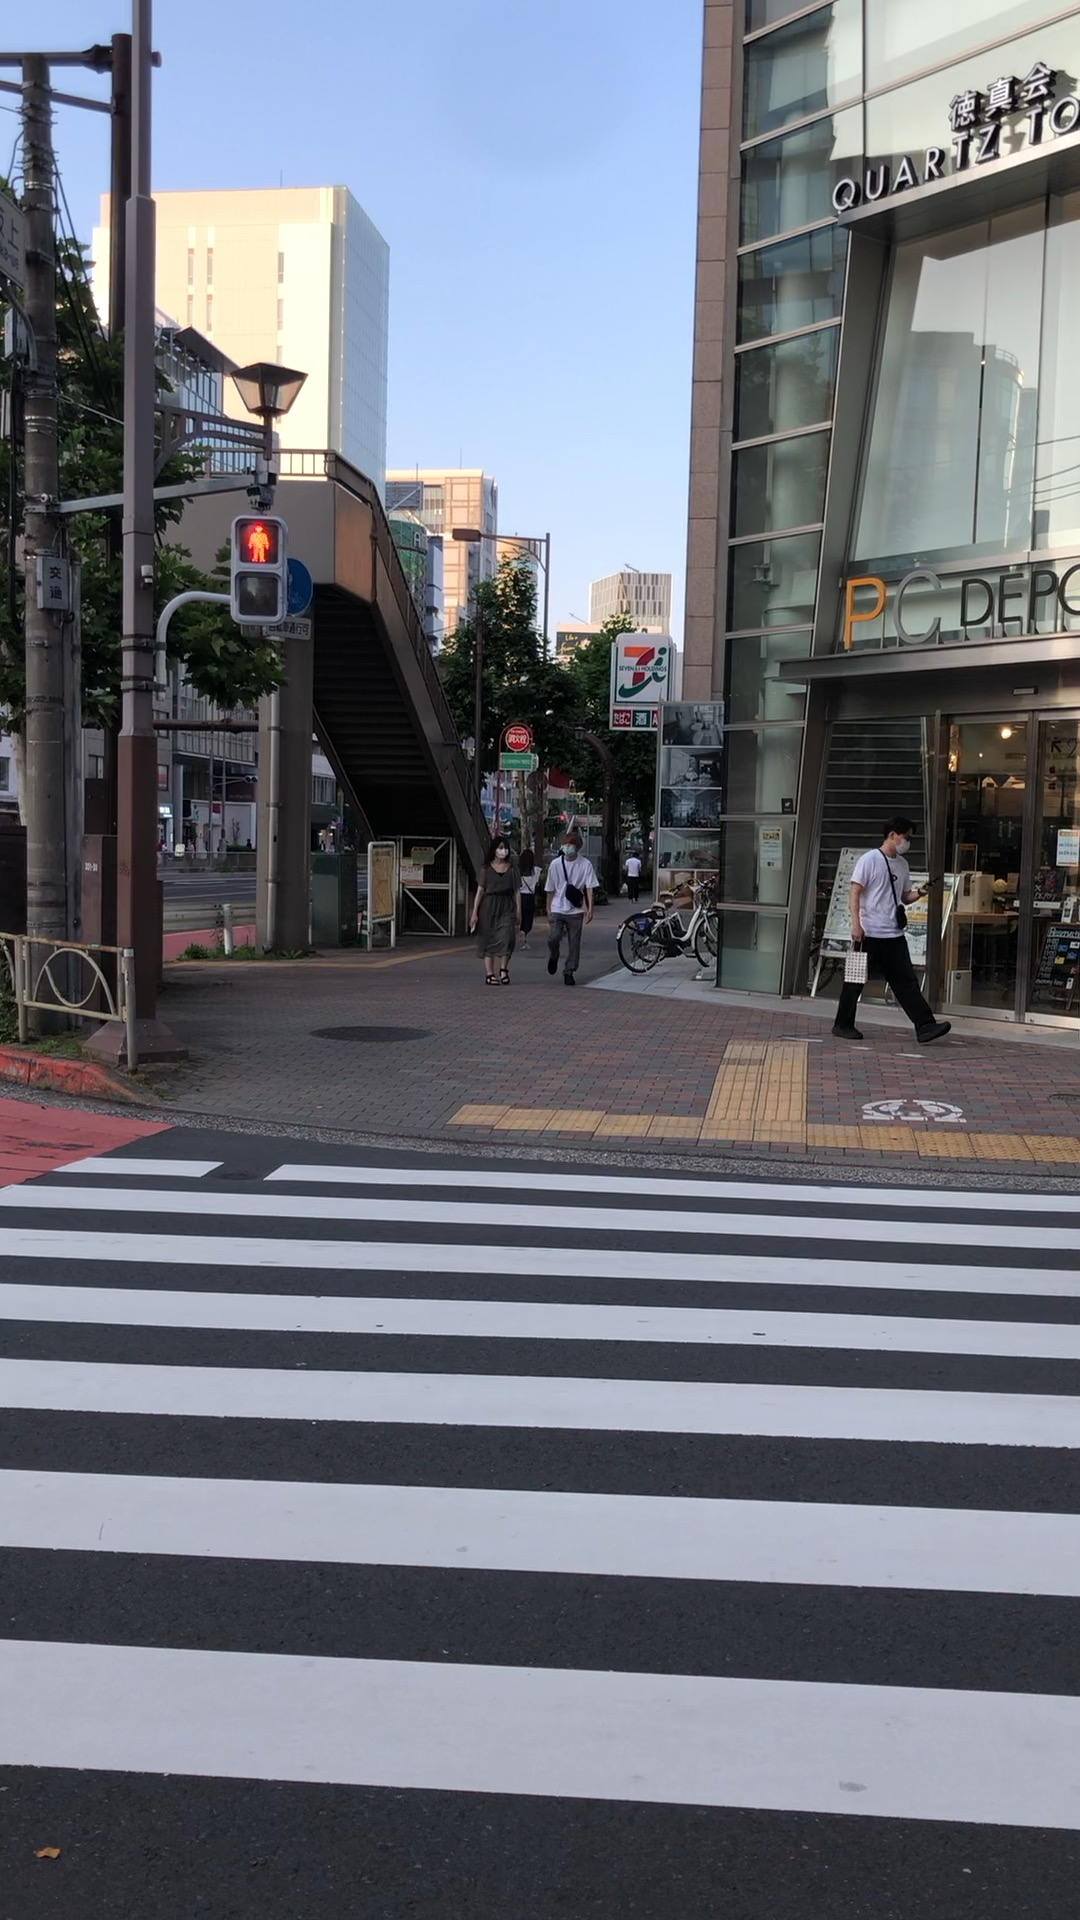red: (229, 514, 287, 625)
